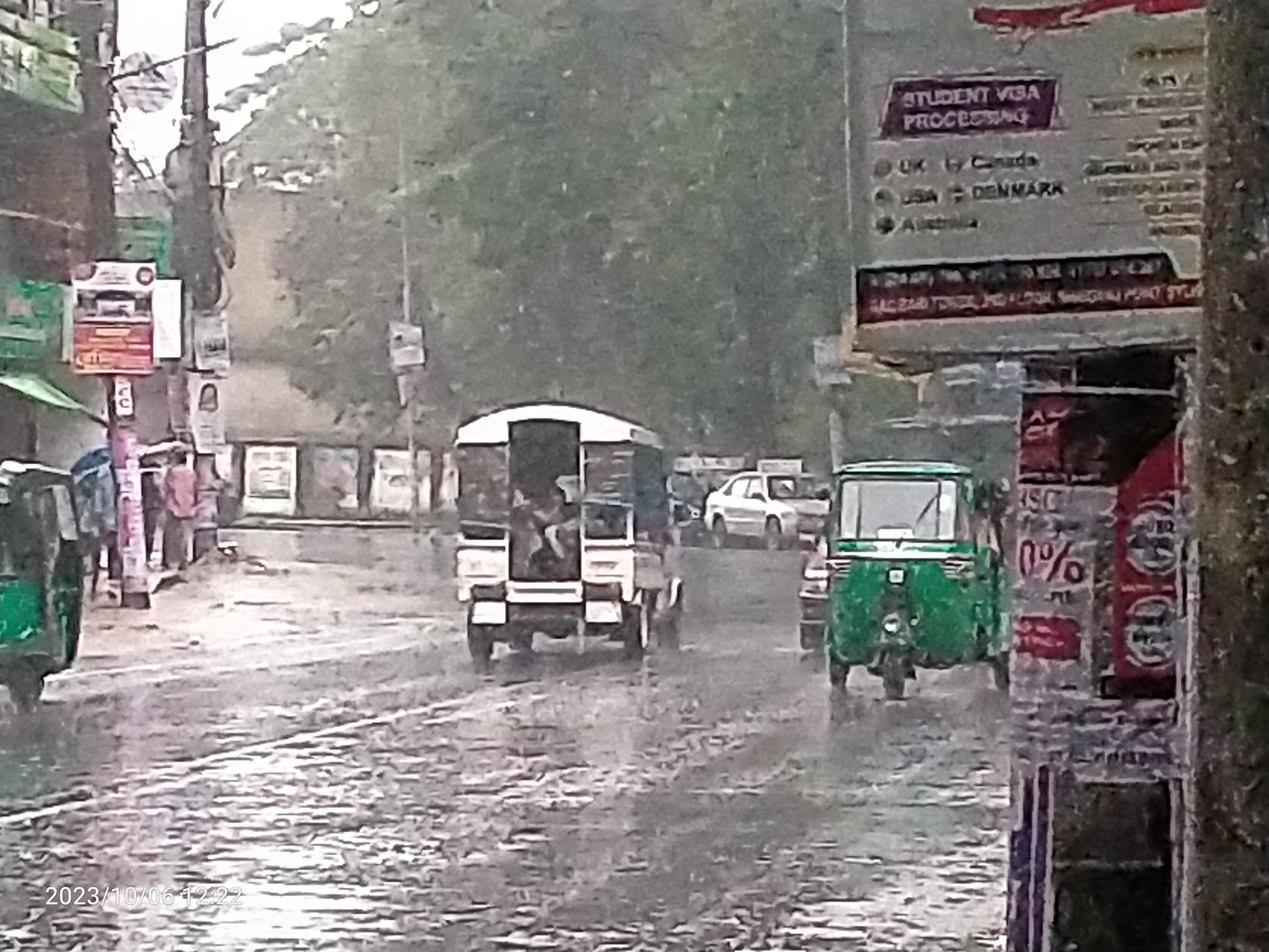Car: (447, 384, 687, 678), (702, 470, 834, 553)
